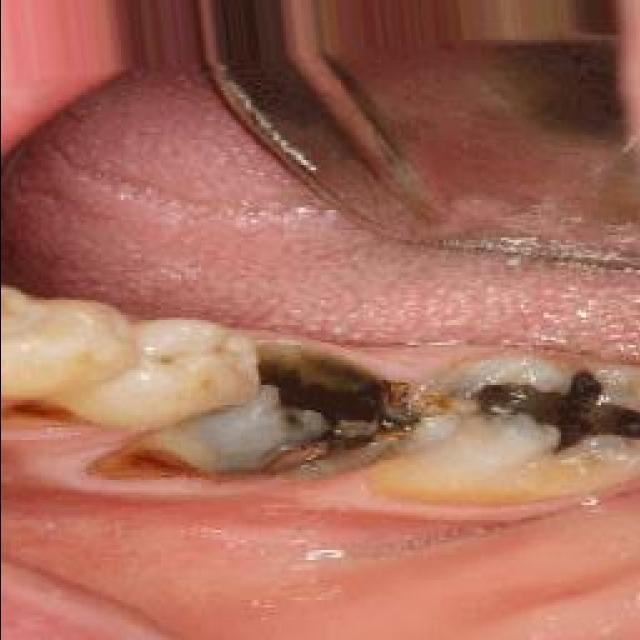caries: (115, 368, 397, 508), (478, 370, 638, 455)
